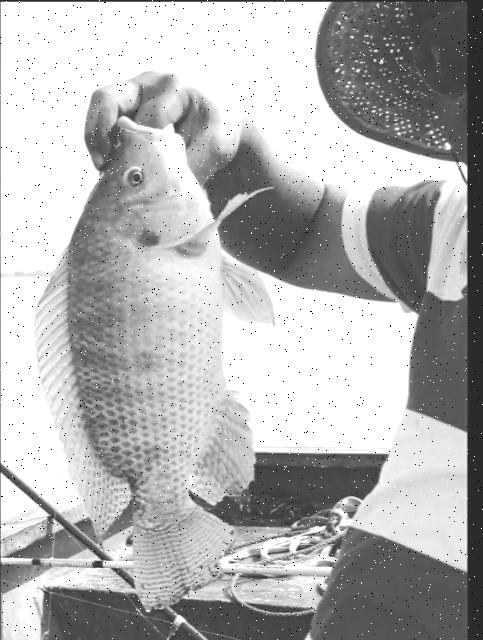Mulut: (113, 107, 195, 151)
Sirip Anal: (197, 374, 267, 520)
Sirip Dada: (164, 178, 272, 256)
Sirip Ekor: (119, 501, 251, 619)
Sirip Perut: (211, 232, 293, 342)
Sirip Punggung: (30, 220, 134, 566)
